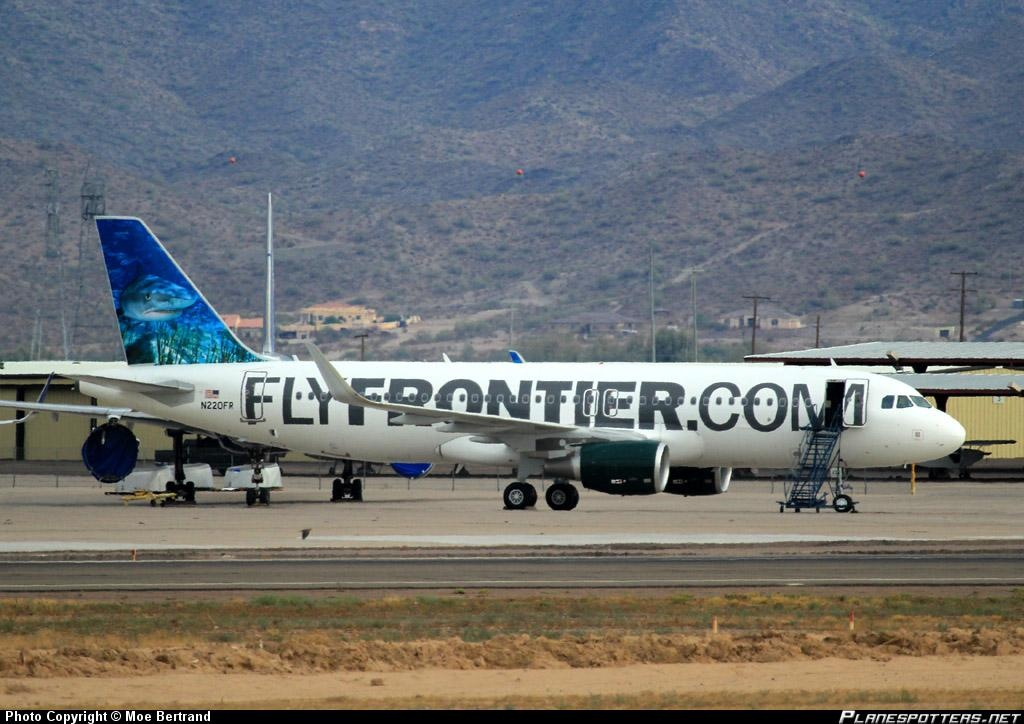airplane: (4, 190, 974, 514)
